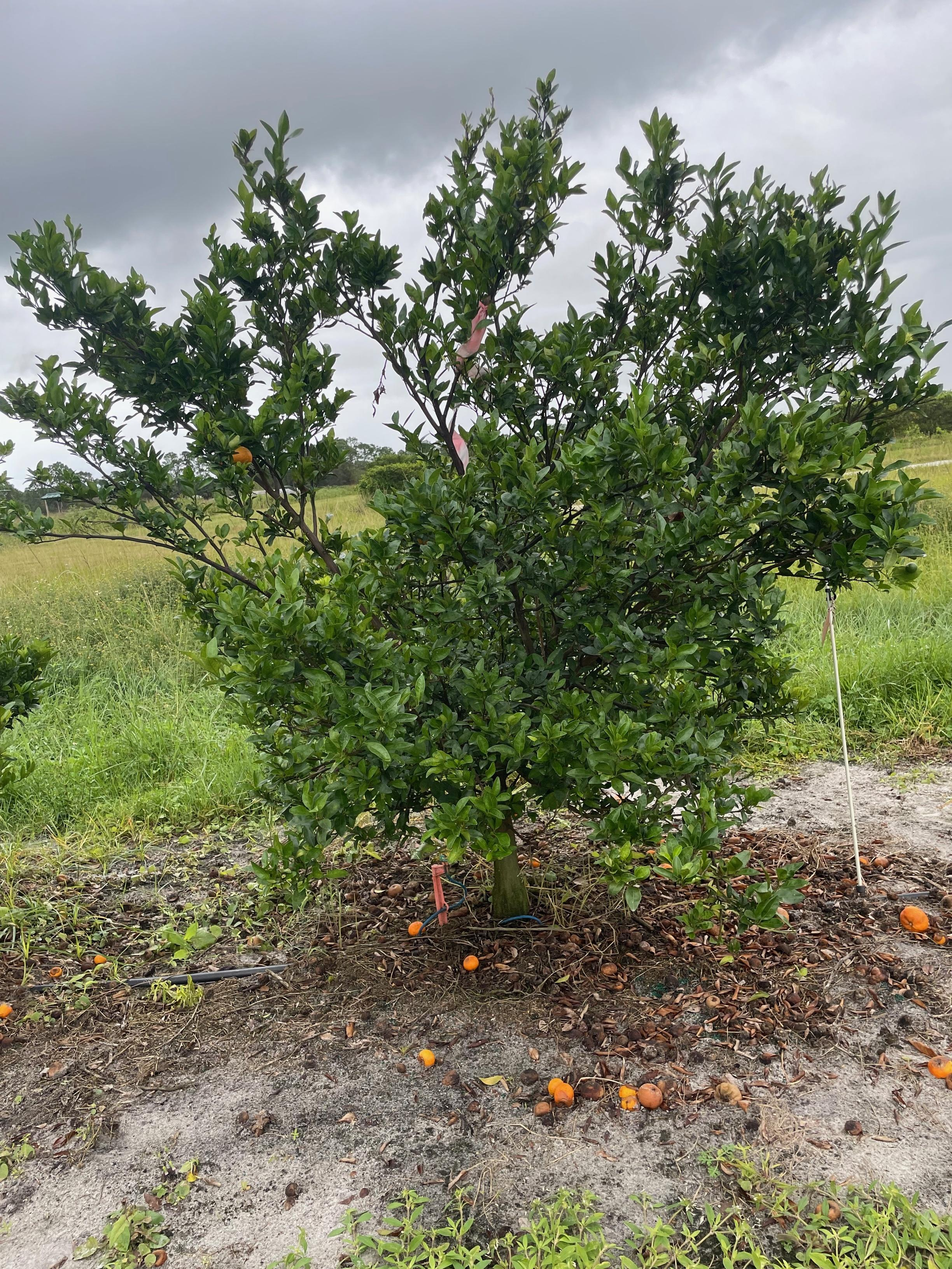fruit_on_ground: (227, 442, 254, 469)
fruit_on_tree: (897, 903, 931, 935), (814, 1196, 844, 1224), (550, 1082, 579, 1110), (636, 1081, 664, 1110), (927, 1052, 952, 1080), (579, 1079, 607, 1102), (145, 1245, 169, 1267), (415, 1046, 437, 1068), (617, 1081, 641, 1101), (545, 1075, 567, 1096), (842, 1117, 864, 1137), (620, 1094, 643, 1113), (655, 859, 676, 879), (460, 952, 481, 972), (532, 1099, 554, 1117), (406, 919, 426, 938), (385, 882, 405, 899), (47, 963, 65, 980), (599, 959, 618, 975), (0, 1000, 15, 1019), (873, 854, 891, 869), (91, 951, 108, 966), (857, 851, 873, 865), (528, 856, 541, 869)
